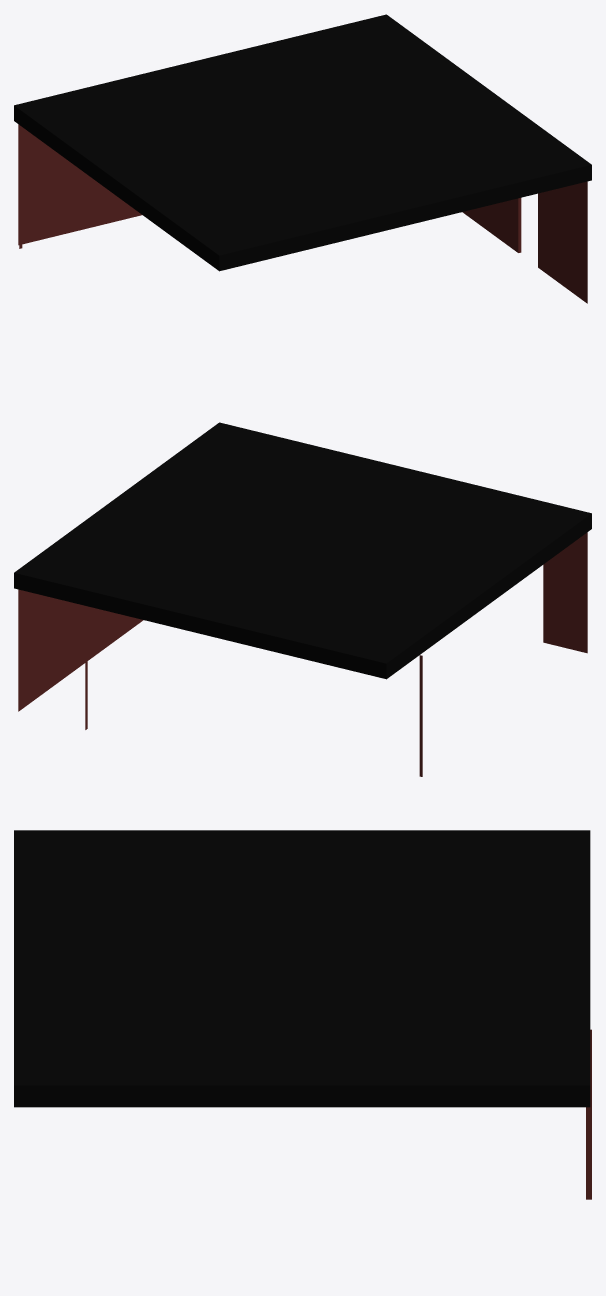
File: Garage.fbx
3 views of the same model, one above another, from view 1: azimuth 30°, elevation 25°; view 2: azimuth 150°, elevation 25°; view 3: azimuth 270°, elevation 25° (orthographic). The views are drawn at different scales.
Parts seen in each view (by area): view 1: Garage; view 2: Garage; view 3: Garage.
Part boxes in pixels (left/top/right/bottom): Garage: left=14, top=14, right=591, bottom=303; Garage: left=14, top=422, right=591, bottom=776; Garage: left=14, top=830, right=591, bottom=1199.
Size of the model in its own units: 675 by 241 by 645.
